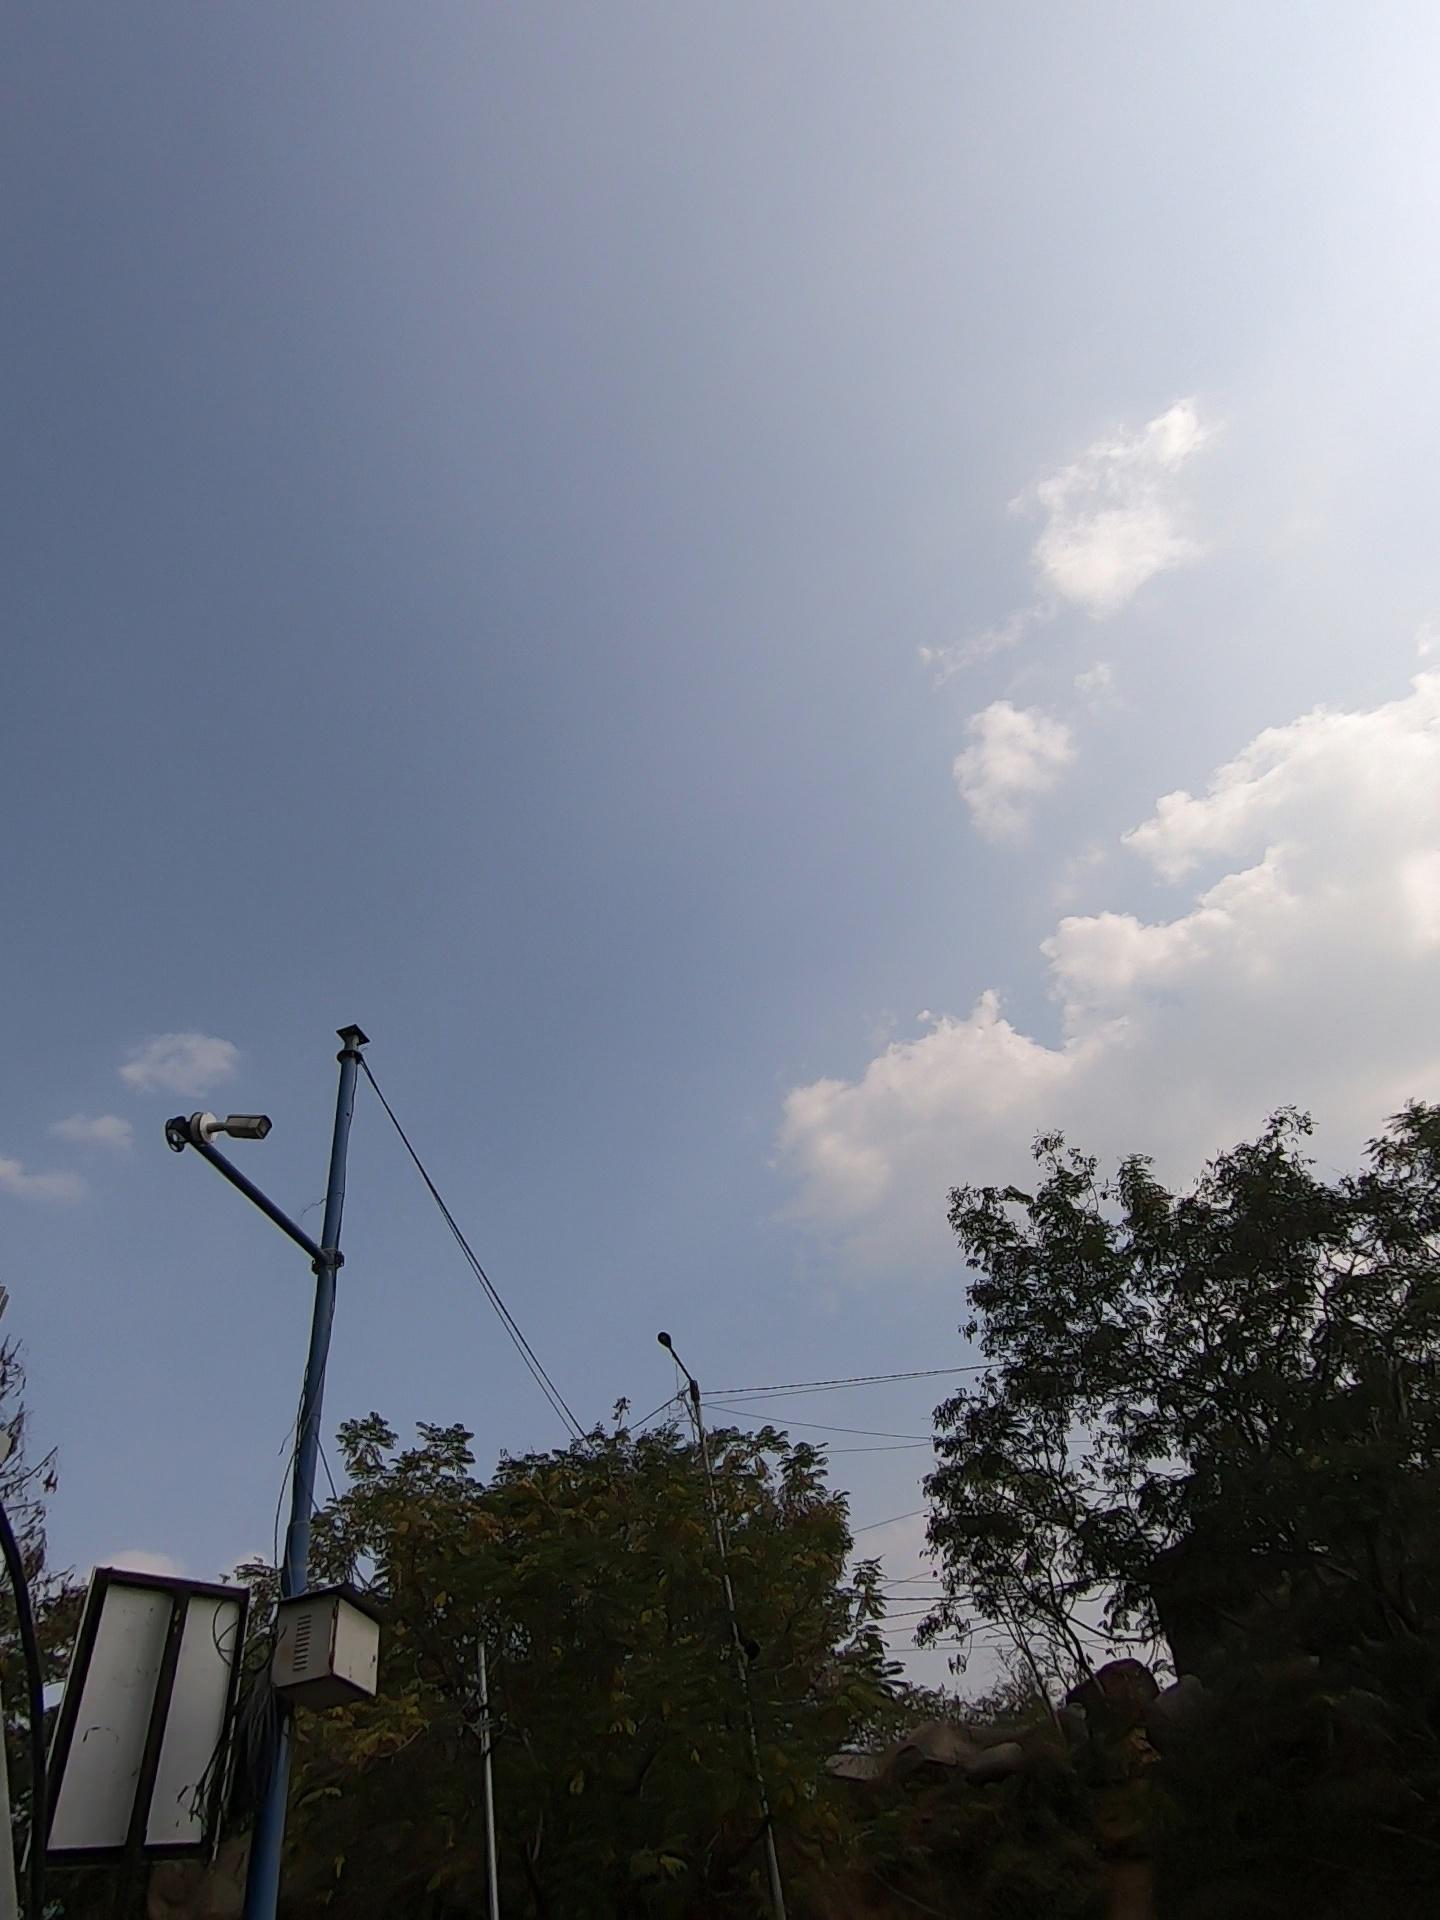off: (0, 1436, 548, 1876)
